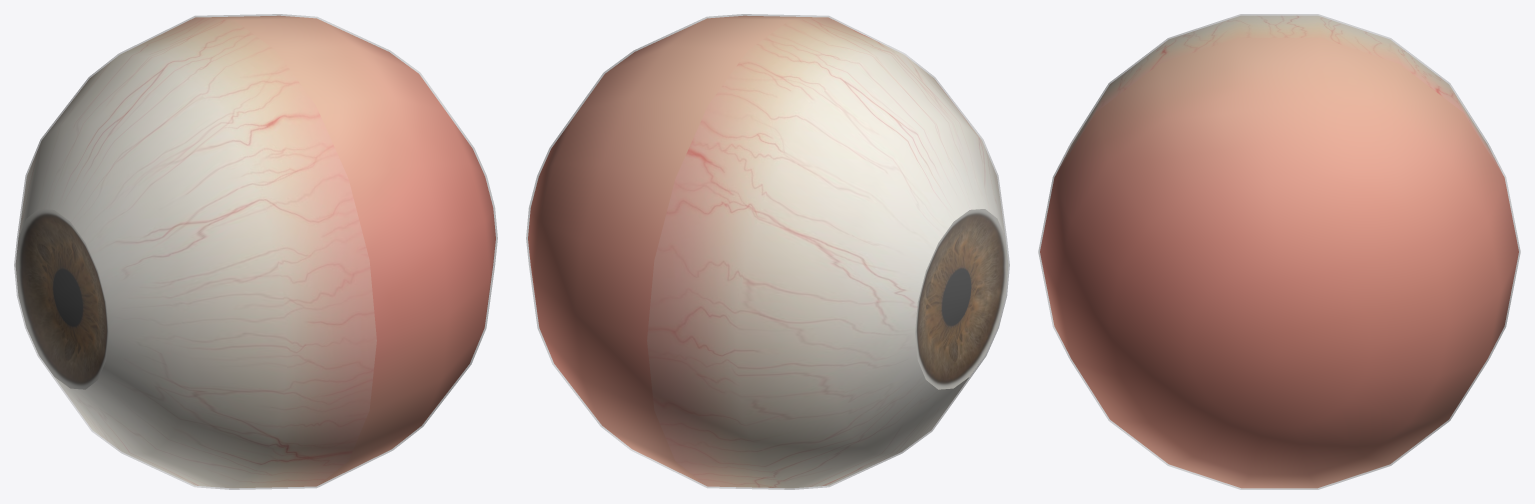
Rendered from Eye.fbx.
The picture shows the model from 3 angles, left to right: view 1: azimuth 30°, elevation 25°; view 2: azimuth 150°, elevation 25°; view 3: azimuth 270°, elevation 25°; orthographic projection.
Parts seen in each view (by area): view 1: Sphere.009, Sphere.008; view 2: Sphere.009, Sphere.008; view 3: Sphere.009, Sphere.008.
Boxes of the visible parts, <box> form: Sphere.009: <box>14,14,497,489</box>; Sphere.008: <box>15,15,495,488</box>; Sphere.009: <box>526,14,1009,489</box>; Sphere.008: <box>528,15,1008,488</box>; Sphere.009: <box>1038,14,1520,489</box>; Sphere.008: <box>1040,15,1518,488</box>.
Size of the model in its own units: 205 by 198 by 201.
